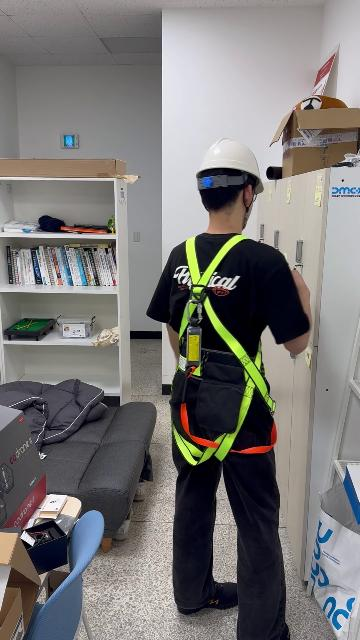helmet_worn: (196, 135, 266, 207)
shoe_worn: (184, 580, 238, 611)
vest_worn: (171, 234, 283, 457)
